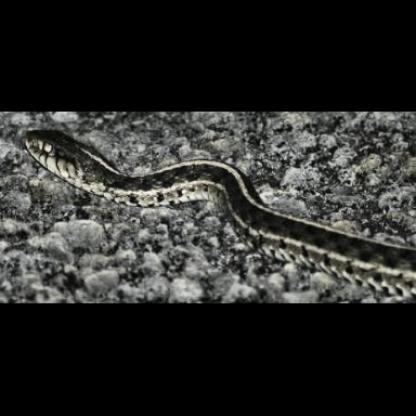Snake: (20, 123, 416, 293)
